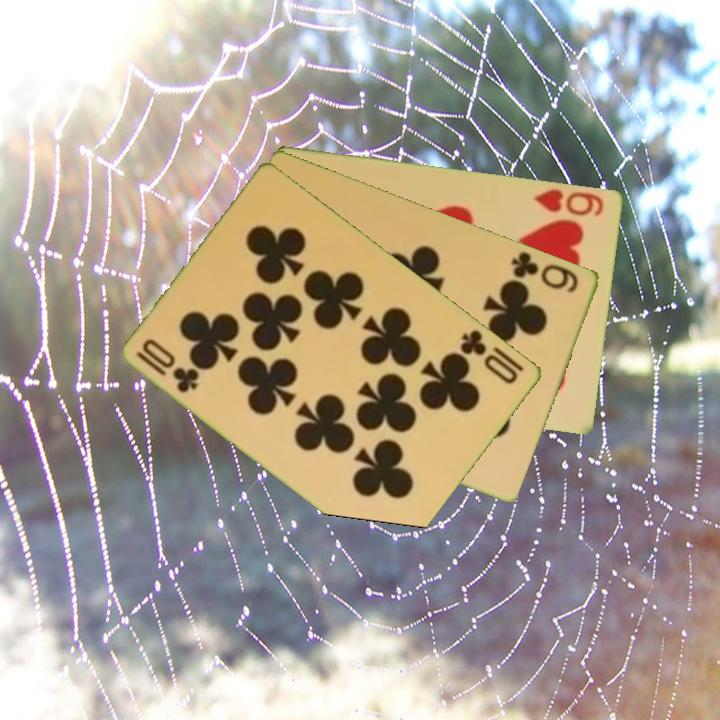10c: (133, 335, 203, 396), (457, 326, 522, 387)
6c: (508, 247, 582, 295)
6h: (530, 185, 607, 219)
